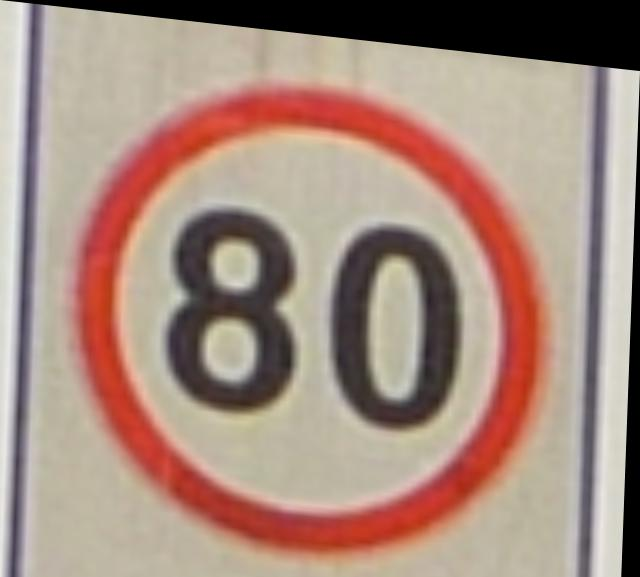limit80: (47, 36, 563, 577)
